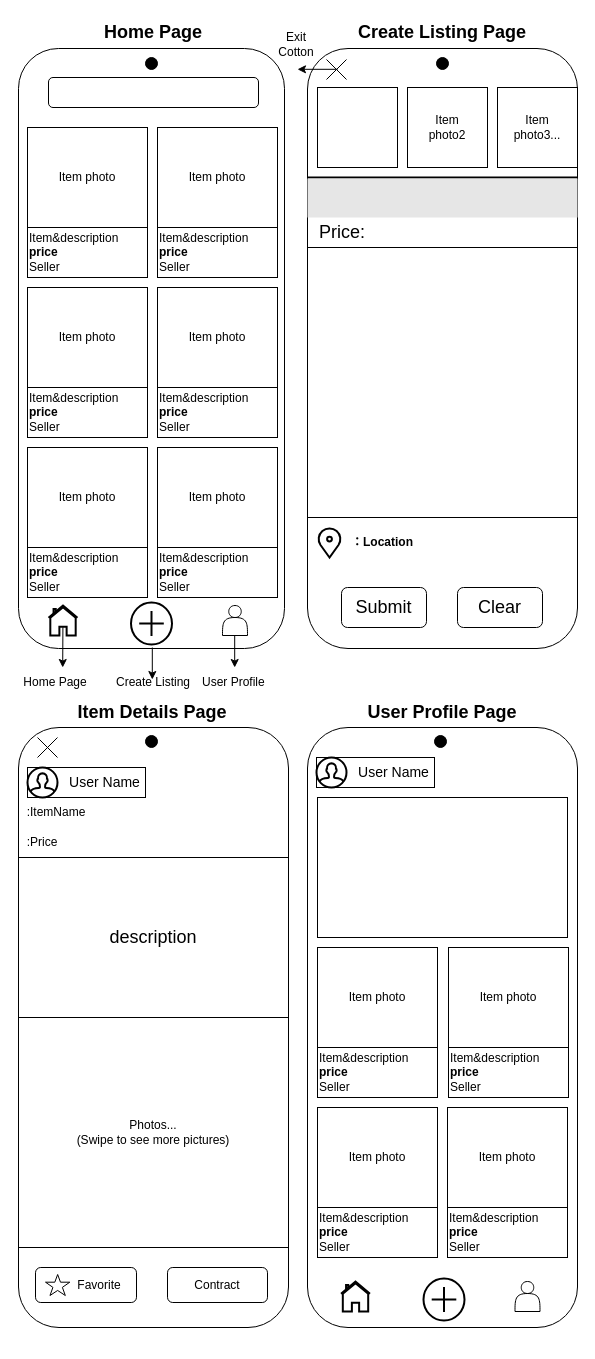
Image size: 595x1359. Some labels were removed from this diagram. Here are the shapes that lost their labels. From the top down, the centre of each, then its label:
the point at 153,92: Search Box
the point at 357,127: Item photo1
the point at 442,197: Item Name:
the point at 442,382: description:
the point at 442,867: User Profile (Email, Telephone number)
